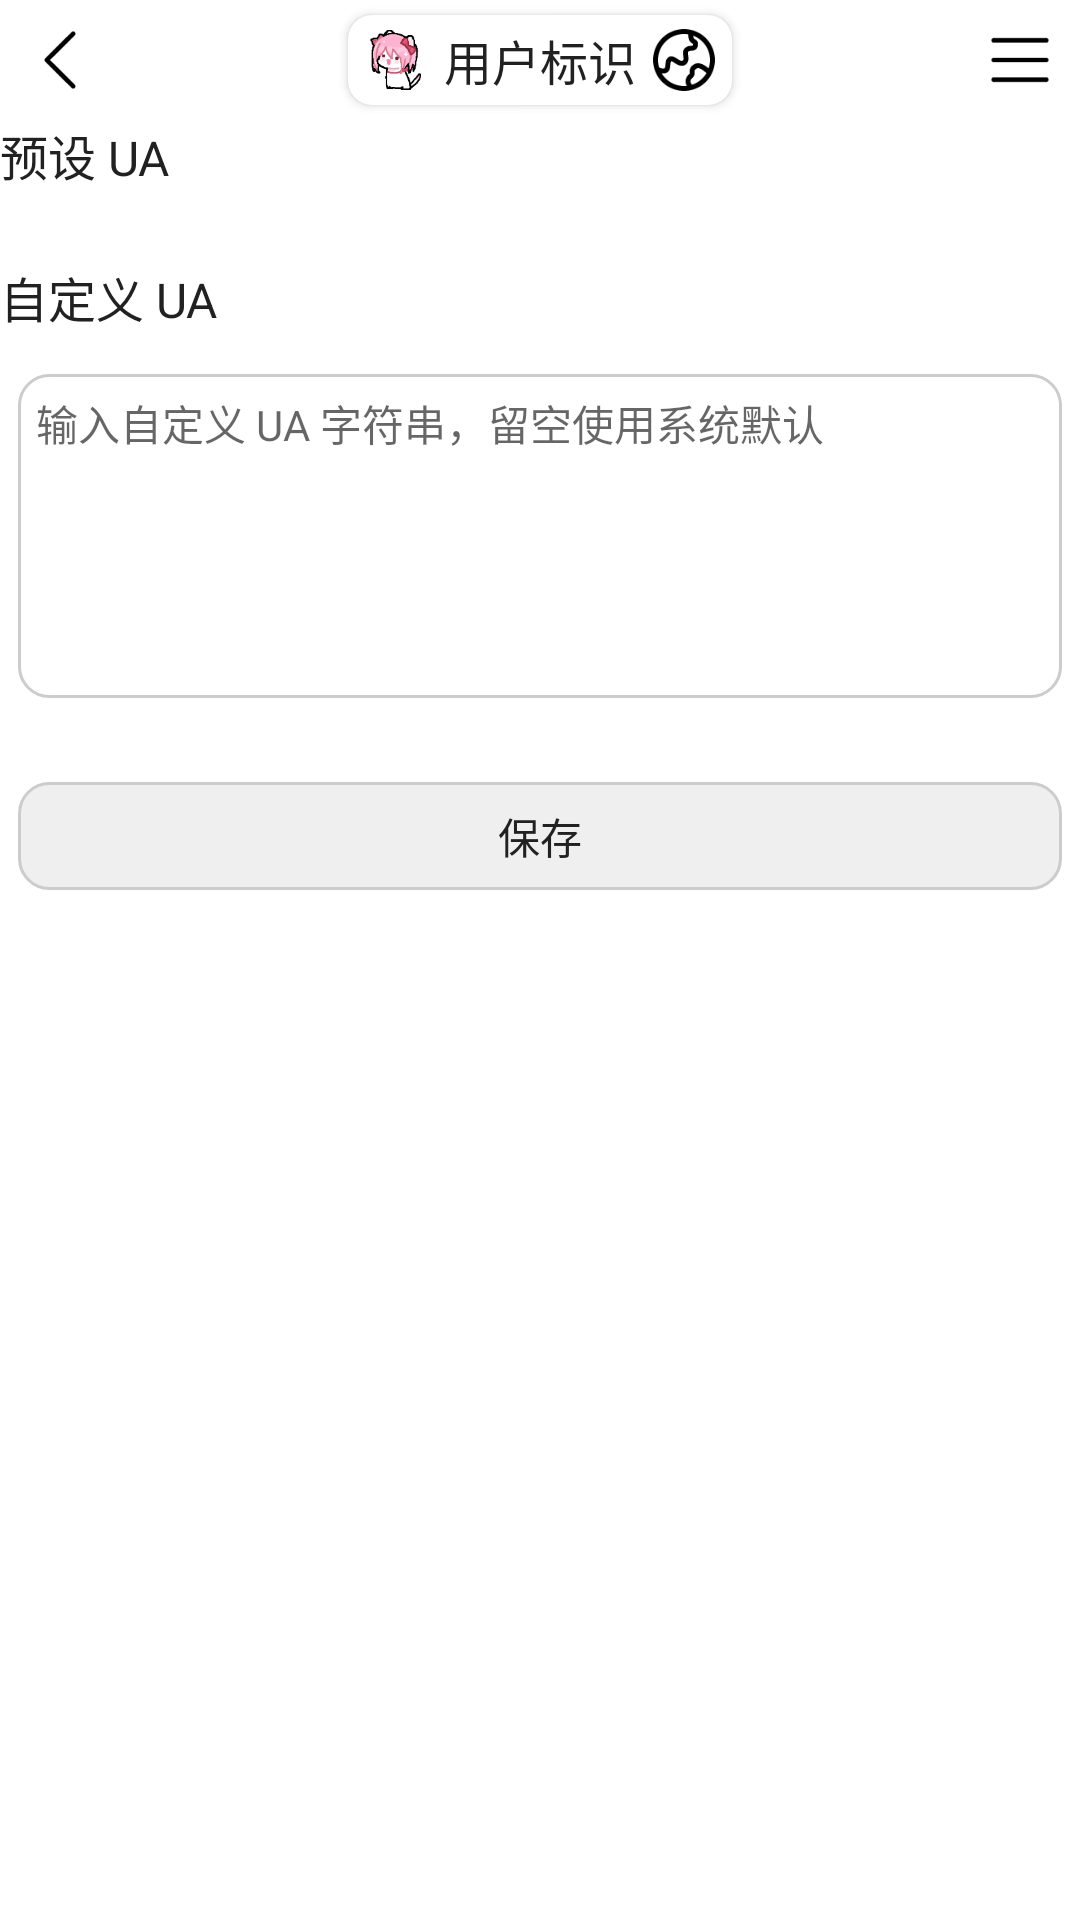

Icons on this 1080px×1920px Android screen, each with the point to tap as (x,y):
arrow back: (60,60)
menu: (1020,60)
